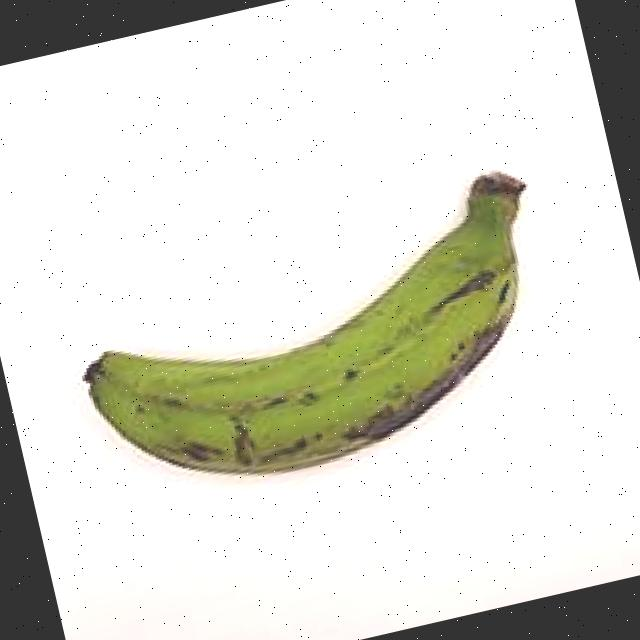Raw: (31, 152, 606, 543)
